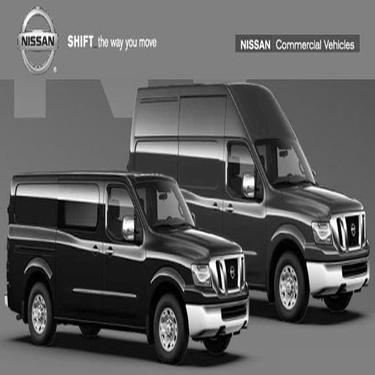car: (126, 77, 365, 319), (1, 163, 263, 358)
